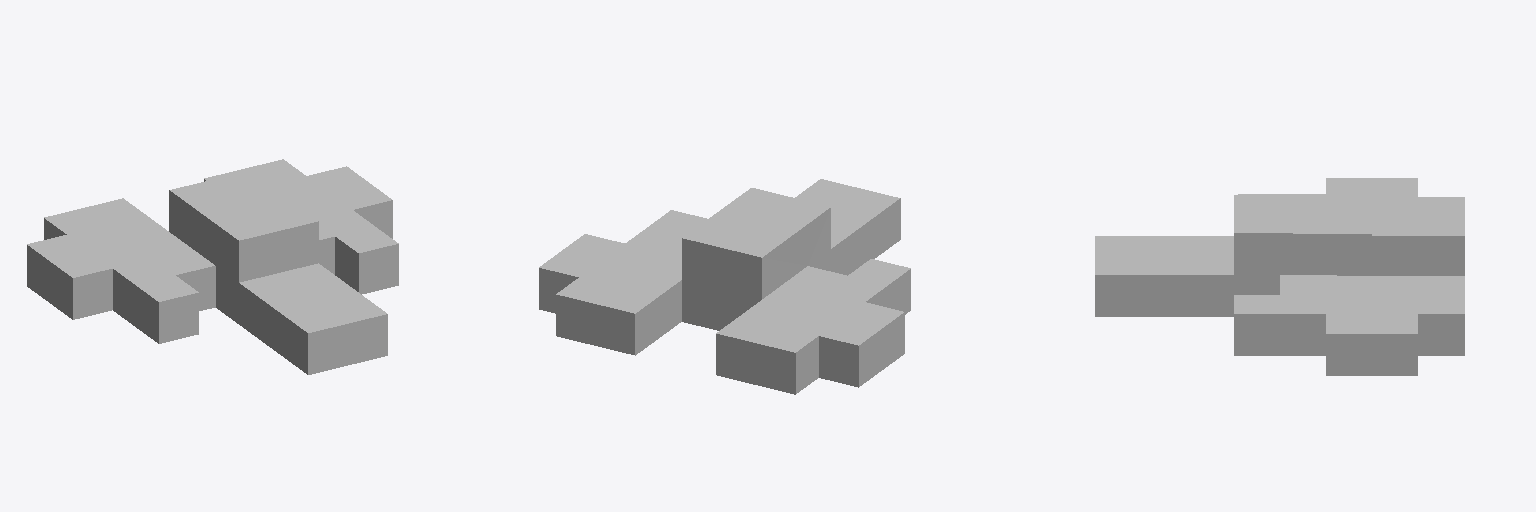
Rendered from ship.obj.
3 views of the same model, side by side, from view 1: azimuth 30°, elevation 25°; view 2: azimuth 150°, elevation 25°; view 3: azimuth 270°, elevation 25° (orthographic).
Visible parts, largest first — view 1: Cube; view 2: Cube; view 3: Cube.
Part boxes in pixels (x1,y1,x2,y2): Cube: (27,159,398,374); Cube: (539,179,910,394); Cube: (1095,178,1464,375).
Bounding box in the file's own units: 2.5 × 0.6256 × 2.5.